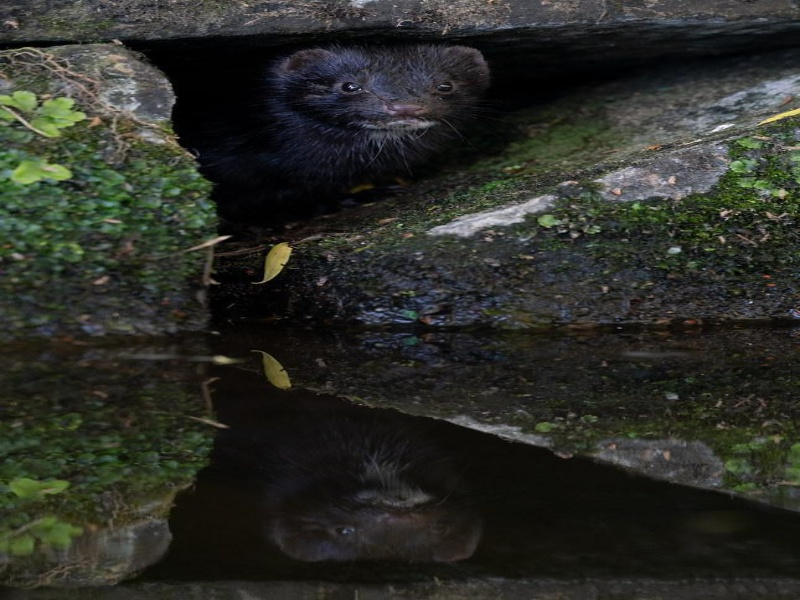minkish: (180, 35, 487, 209)
